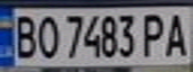3: (115, 11, 142, 58)
4: (81, 11, 103, 60)
7: (60, 11, 84, 60)
8: (100, 11, 121, 58)
A: (160, 9, 193, 57)
B: (9, 11, 39, 60)
O: (33, 11, 60, 60)
P: (139, 10, 169, 58)
